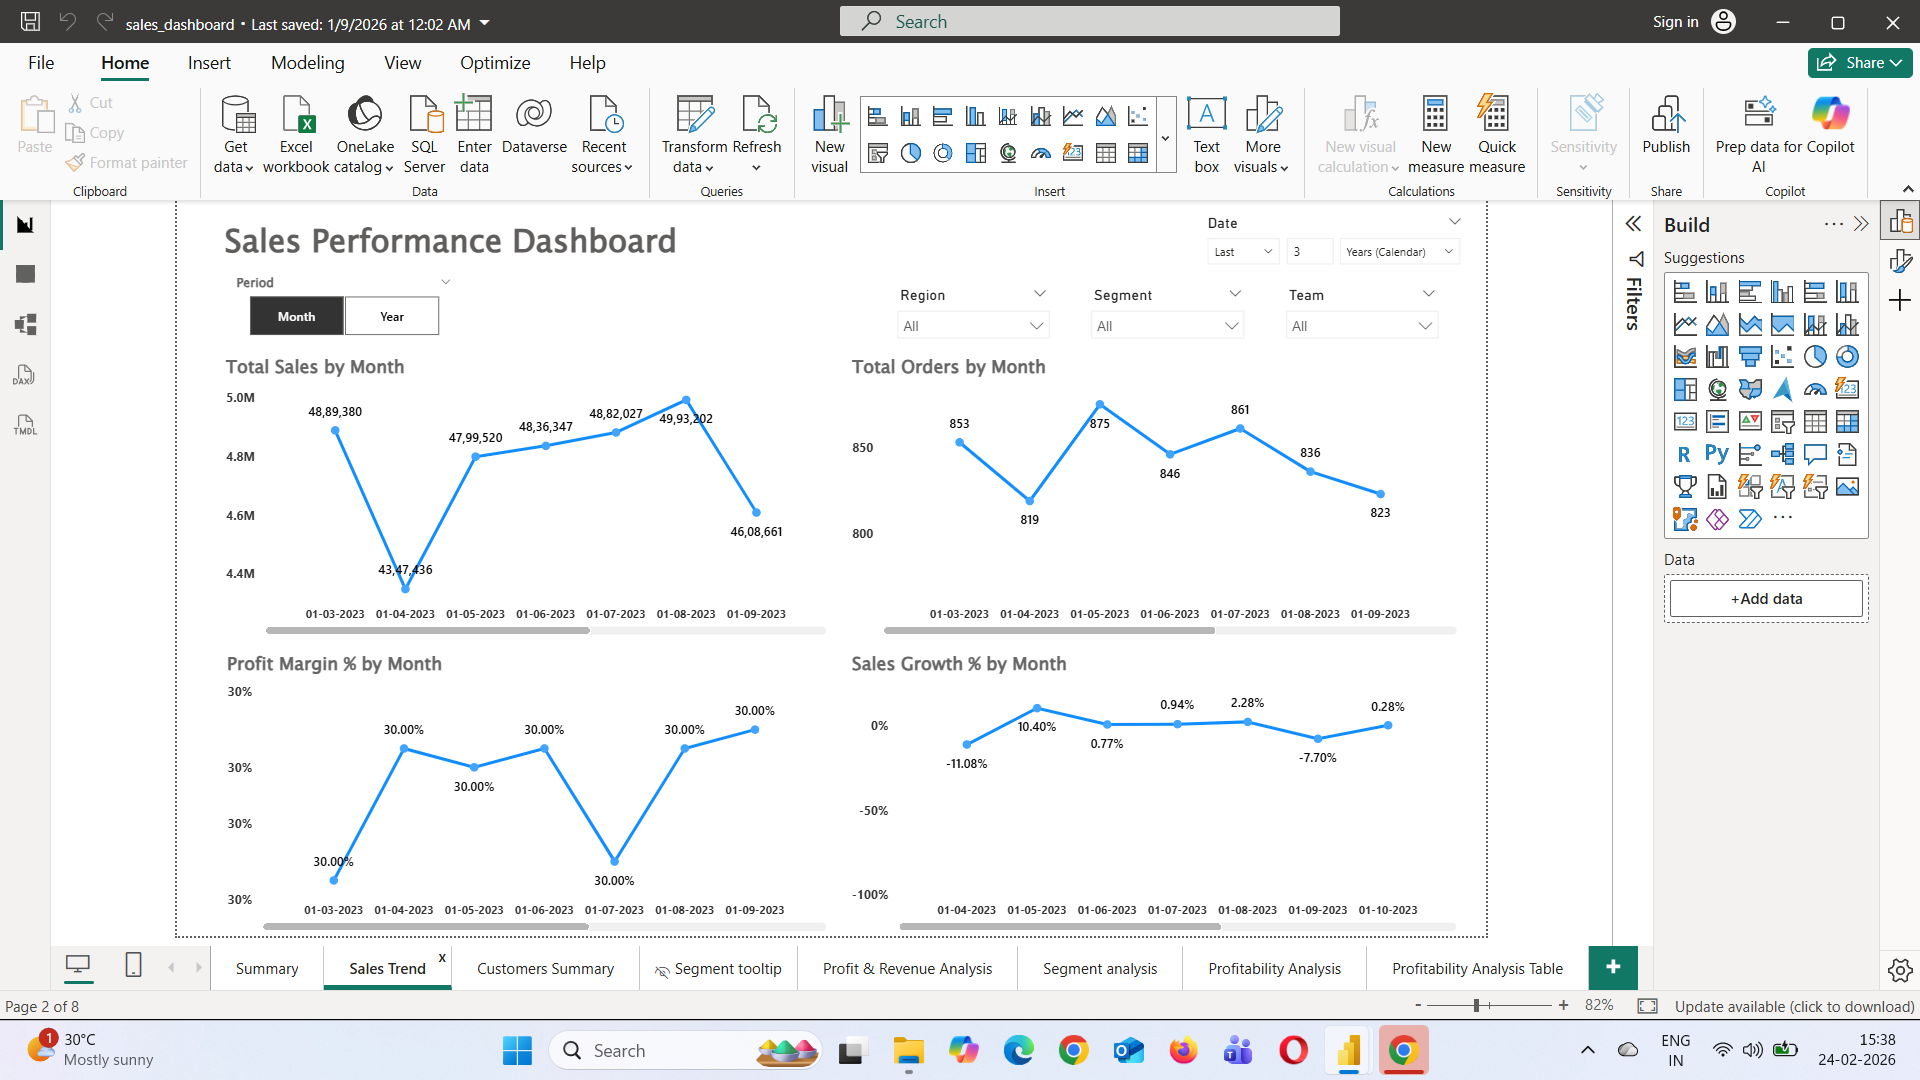

This screenshot's page, from the dashboard's own definition file:
{"tool":"powerbi","page":{"name":"Sales Trend","canvas":[1280,720],"ordinal":1},"visuals":[{"type":"slicer","fields":{"Values":["Calendar.Date"]},"box":[995.4,8.6,273.9,58.7],"z":0},{"type":"slicer","fields":{"Values":["SalesData.Region"]},"box":[694,79.4,168.8,60.6],"z":1000},{"type":"slicer","fields":{"Values":["SalesData.Segment"]},"box":[884.4,79.4,170.2,60.6],"z":2000},{"type":"slicer","fields":{"Values":["SalesData.Team"]},"box":[1074.9,79.4,168.8,60.6],"z":3000},{"type":"actionButton","box":[43.3,13,515.1,40.4],"z":4000},{"type":"slicer","fields":{"Values":["Period.Period"]},"box":[44.7,67.8,235.2,72.1],"z":5000},{"type":"lineChart","fields":{"Category":["Calendar.Start of Month"],"Y":["_All Measures.Total Sales"]},"box":[42.8,150.4,600.4,280],"z":6000},{"type":"lineChart","fields":{"Category":["Calendar.Start of Month"],"Y":["_All Measures.Total Orders"]},"box":[655,150,604.5,279.9],"z":7000},{"type":"lineChart","fields":{"Category":["Calendar.Start of Month"],"Y":["_All Measures.Profit Margin %"]},"box":[44,440,599.2,280],"z":8000},{"type":"lineChart","fields":{"Category":["Calendar.Start of Month"],"Y":["_All Measures.Sales Growth %"]},"box":[655.4,440.2,604.1,280],"z":9000}]}

Visuals, with their boxes on the page's 1280x720 design canvas (x1, y1, x2, y2). These are canvas units, not pixel positions in the 1920x1080 screenshot, which may show the page scaled, cropped or inside an application window:
slicer - Calendar.Date: x1=995 y1=9 x2=1269 y2=67
slicer - SalesData.Region: x1=694 y1=79 x2=863 y2=140
slicer - SalesData.Segment: x1=884 y1=79 x2=1055 y2=140
slicer - SalesData.Team: x1=1075 y1=79 x2=1244 y2=140
actionButton: x1=43 y1=13 x2=558 y2=53
slicer - Period.Period: x1=45 y1=68 x2=280 y2=140
lineChart - Calendar.Start of Month x _All Measures.Total Sales: x1=43 y1=150 x2=643 y2=430
lineChart - Calendar.Start of Month x _All Measures.Total Orders: x1=655 y1=150 x2=1260 y2=430
lineChart - Calendar.Start of Month x _All Measures.Profit Margin %: x1=44 y1=440 x2=643 y2=720
lineChart - Calendar.Start of Month x _All Measures.Sales Growth %: x1=655 y1=440 x2=1260 y2=720
